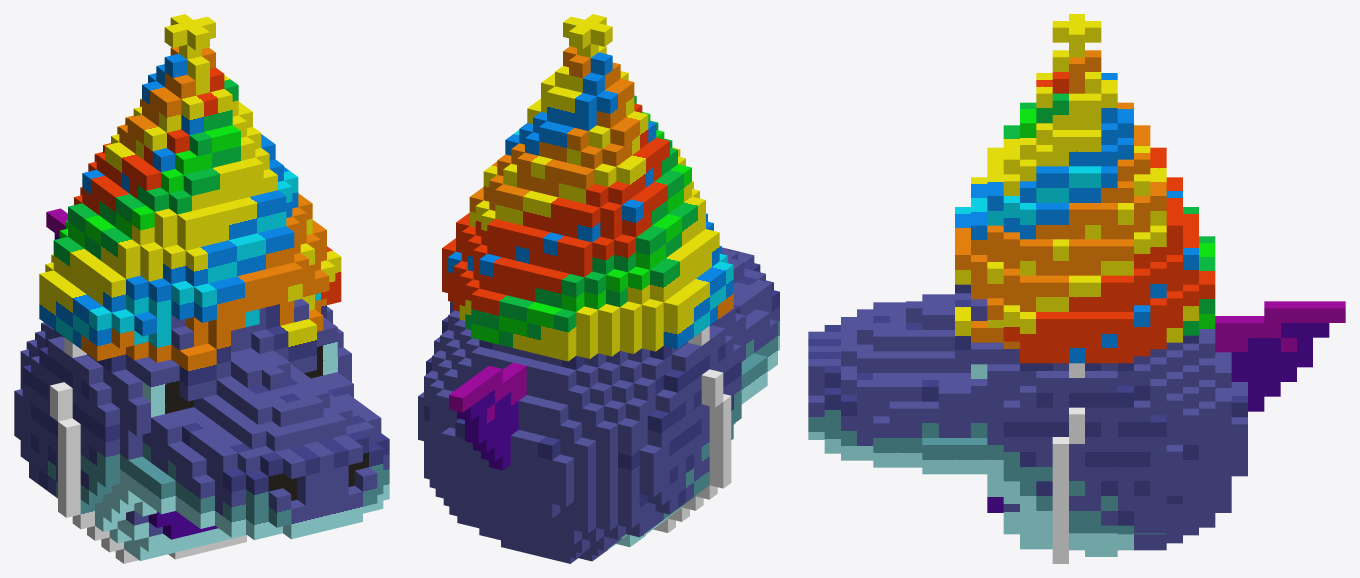
File: birthday hat_eye patch.gltf
3 views of the same model, side by side, from view 1: azimuth 30°, elevation 25°; view 2: azimuth 150°, elevation 25°; view 3: azimuth 270°, elevation 25° (orthographic). The views are drawn at different scales.
Parts seen in each view (by area): view 1: C06_H_BirthdayH_EyeP-Mesh; view 2: C06_H_BirthdayH_EyeP-Mesh; view 3: C06_H_BirthdayH_EyeP-Mesh.
Boxes of the visible parts, x1,y1,x2,y2 form: C06_H_BirthdayH_EyeP-Mesh: (14, 14, 389, 563); C06_H_BirthdayH_EyeP-Mesh: (418, 14, 779, 563); C06_H_BirthdayH_EyeP-Mesh: (808, 14, 1345, 563).
Bounding box in the file's own units: 19 × 34 × 33.
Materials: 1 (1 with a texture image).
